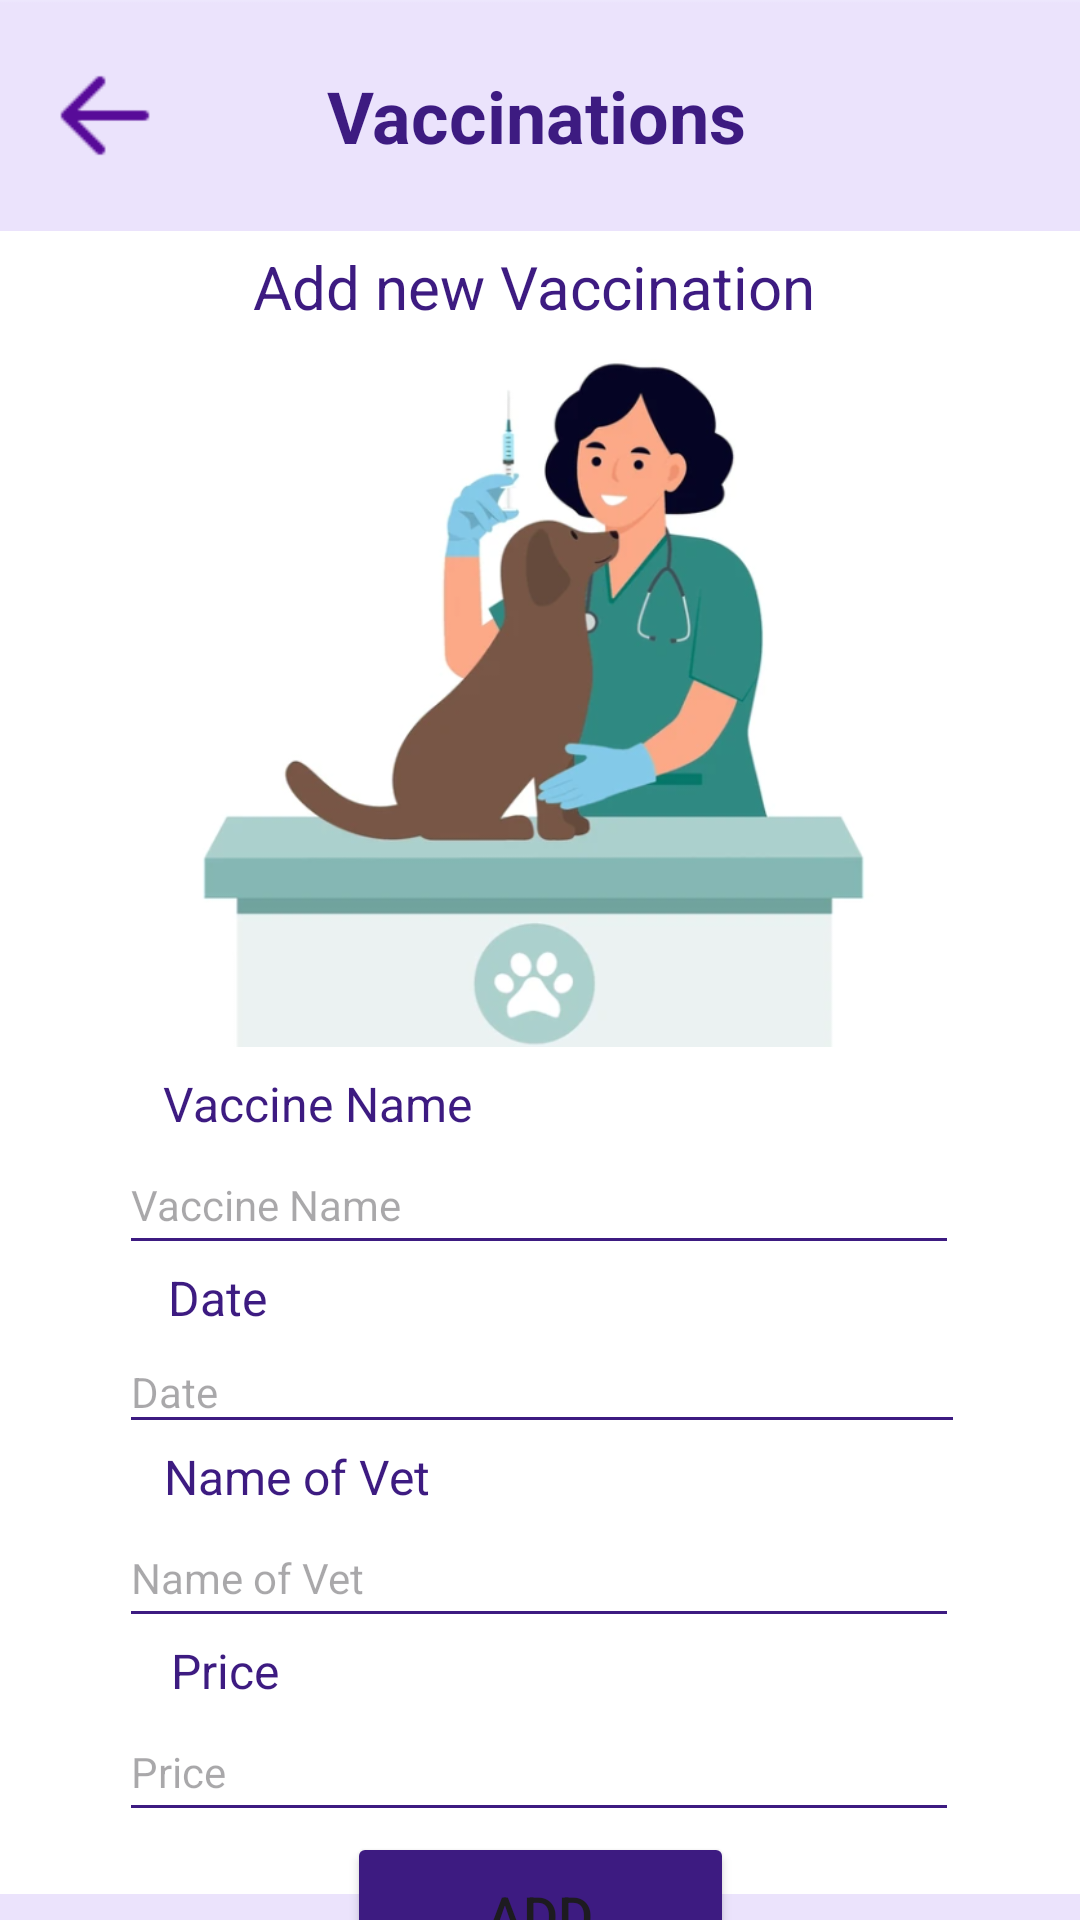

Where to tap for icons on this 1080×1920 app screen, as [x,y]:
arrowback: [105,115]
